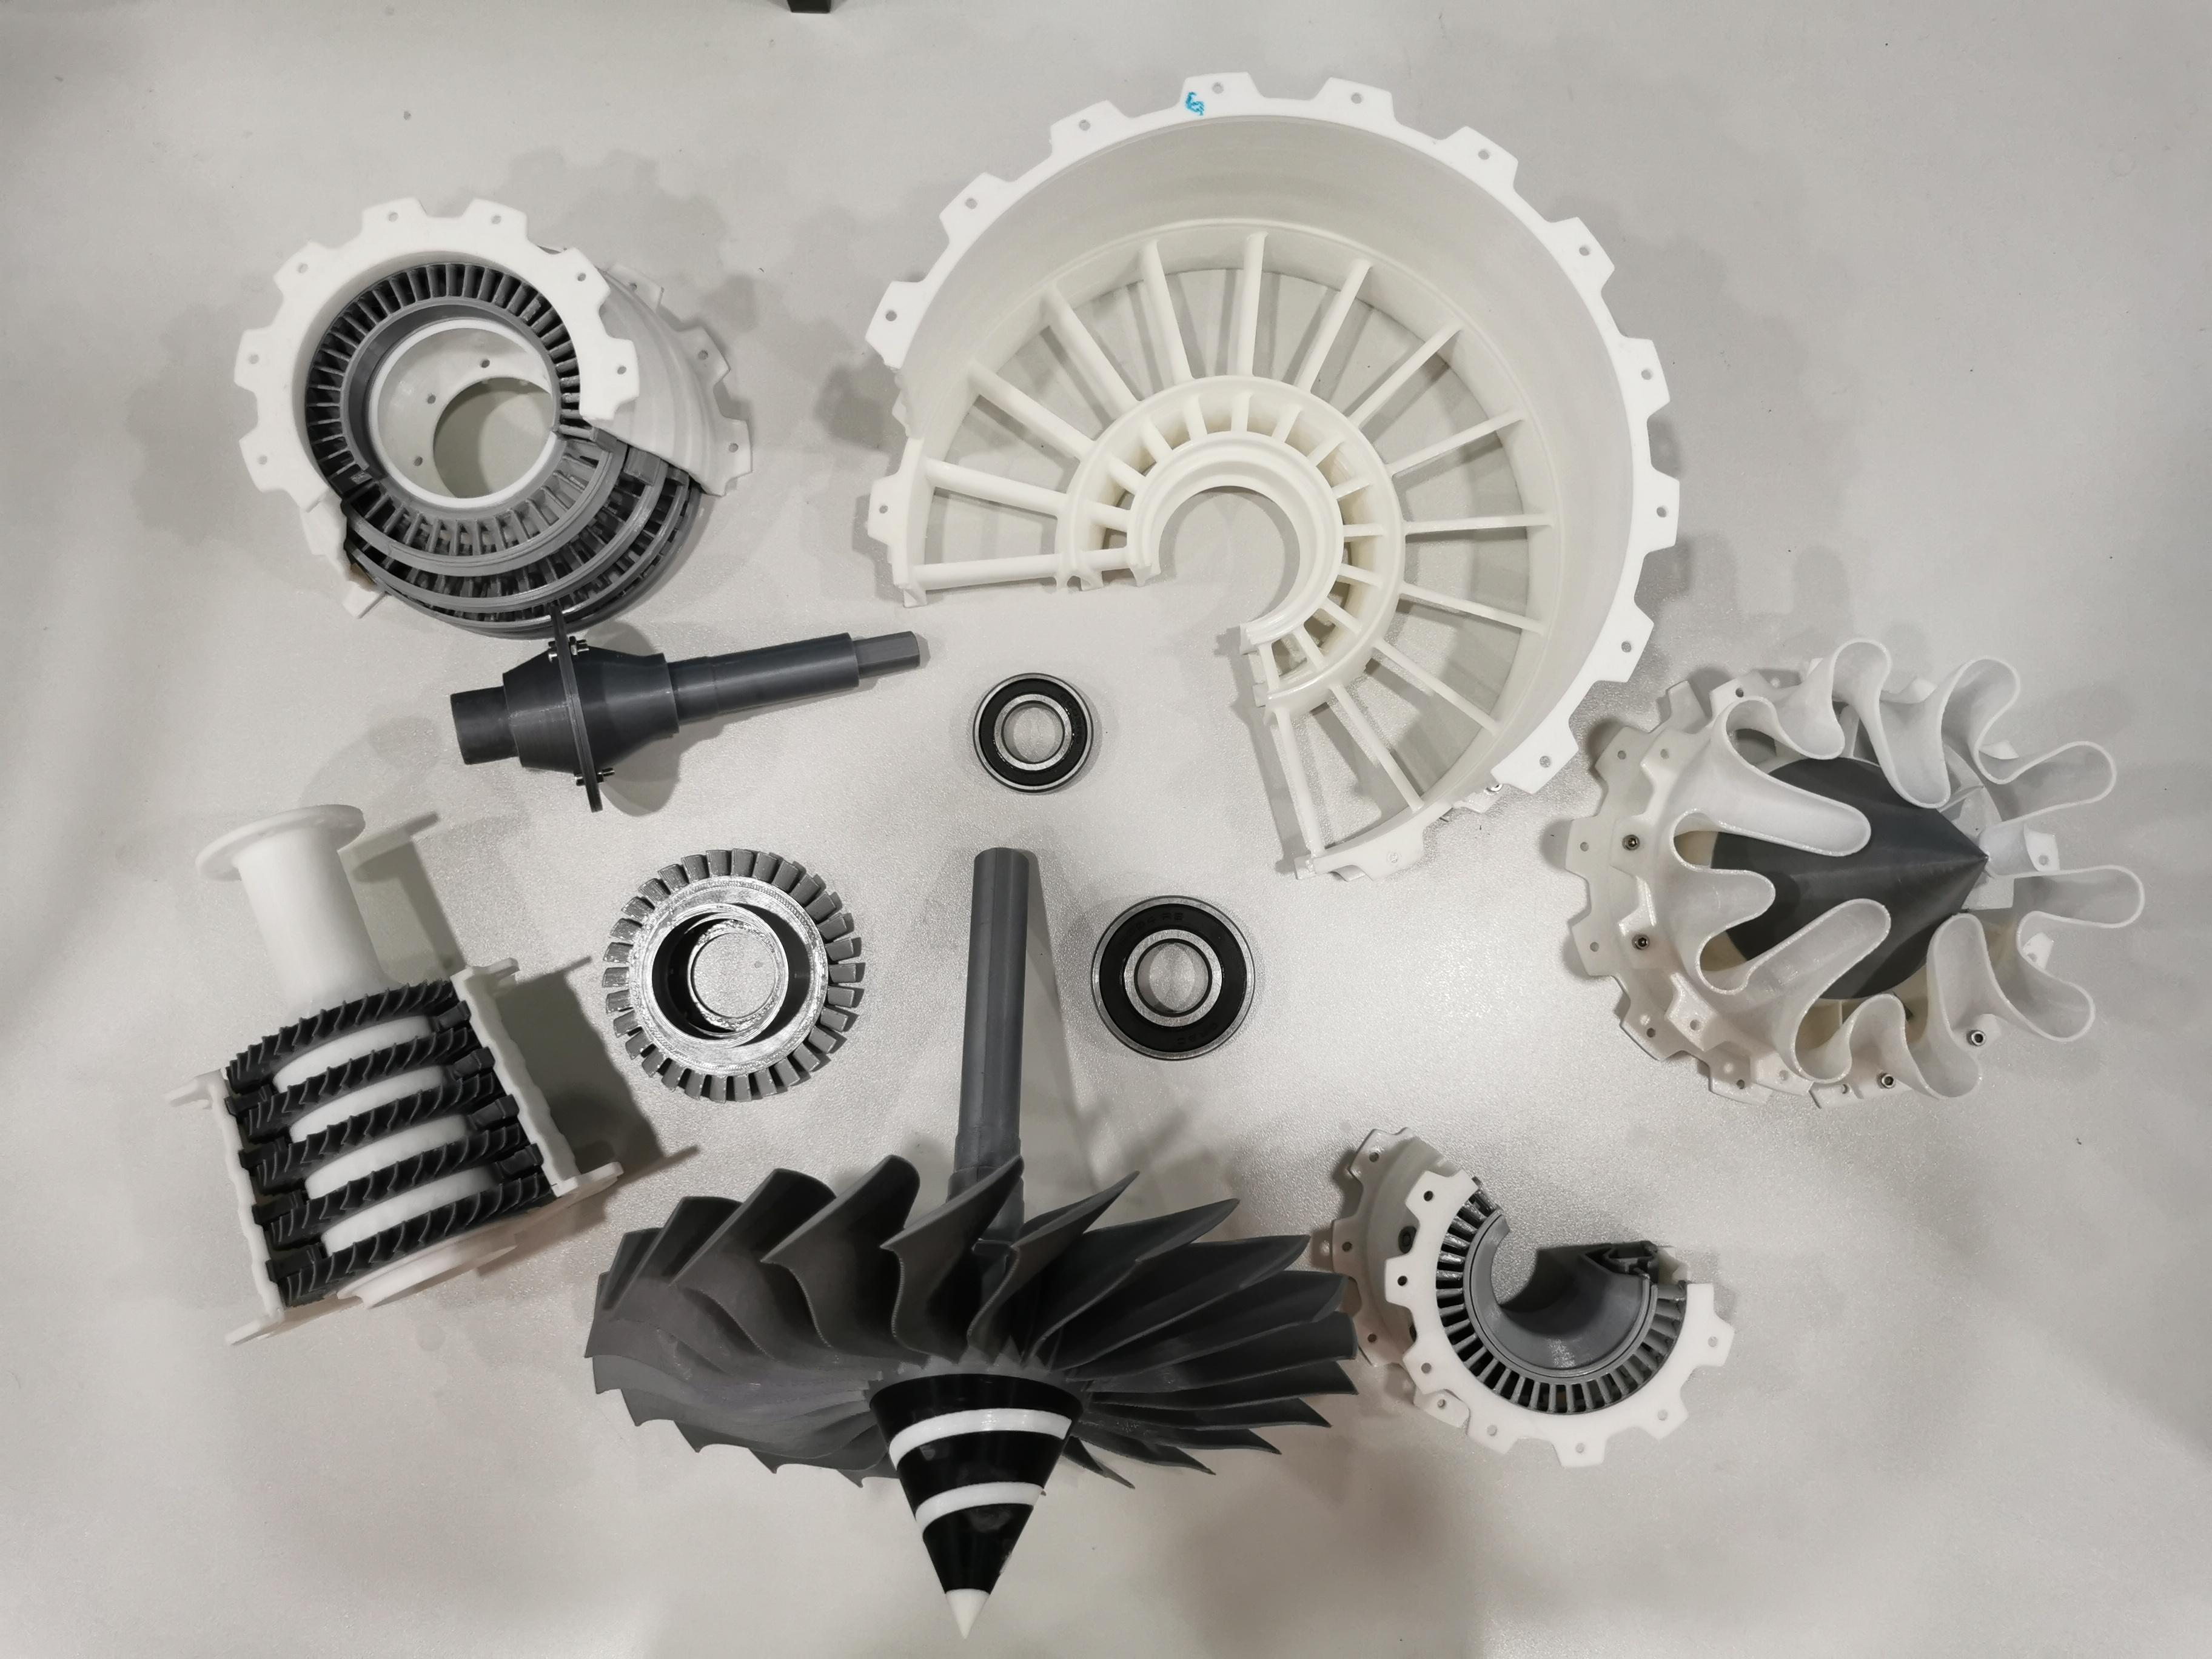Bearing-6003: (951, 650, 1109, 812)
Bearing-6204: (1073, 880, 1270, 1075)
Combustion Section: (1318, 1105, 1743, 1492)
Fan Casing and Support: (857, 61, 1691, 885)
Fan and Low Pressure Shaft: (577, 842, 1371, 1645)
HPT Section: (571, 836, 892, 1121)
High Pressure Spool: (111, 786, 631, 1354)
LPT Section: (218, 186, 768, 645)
Low Pressure Spool: (428, 606, 937, 817)
Nozzle Section: (1559, 627, 2160, 1115)
